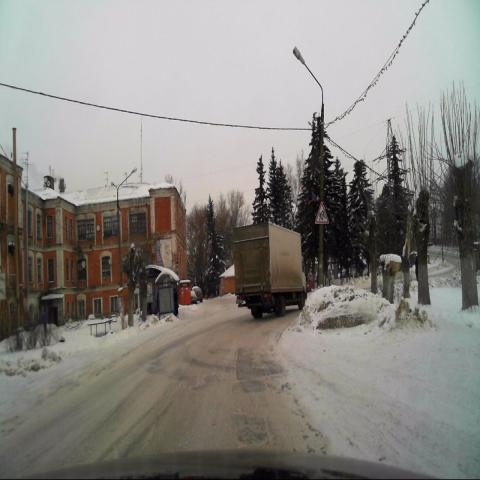1_23: (314, 202, 328, 223)
